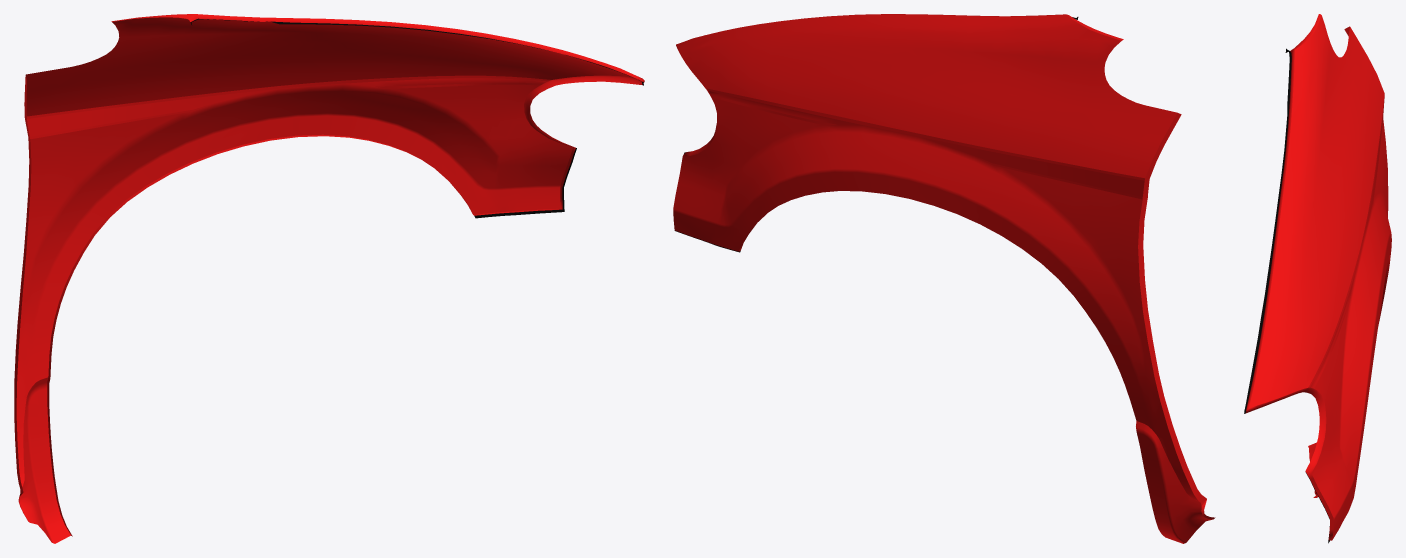
The picture shows the model from 3 angles, left to right: view 1: azimuth 30°, elevation 25°; view 2: azimuth 150°, elevation 25°; view 3: azimuth 270°, elevation 25°; orthographic projection. The views are drawn at different scales.
Parts seen in each view (by area): view 1: N664_9A_121B_L_1_DaS_N664_9A_121B_L, N664_9A_121B_L_1_DaS_N664_9A_121B_L_E, N664_9A_121B_L_N664_9A_121B_L_2_D; view 2: N664_9A_121B_L_1_DaS_N664_9A_121B_L, N664_9A_121B_L_1_DaS_N664_9A_121B_L_E; view 3: N664_9A_121B_L_1_DaS_N664_9A_121B_L, N664_9A_121B_L_1_DaS_N664_9A_121B_L_E, N664_9A_121B_L_N664_9A_121B_L_2_D.
Part boxes in pixels (<box>): N664_9A_121B_L_1_DaS_N664_9A_121B_L: <box>16,17,630,543</box>; N664_9A_121B_L_1_DaS_N664_9A_121B_L_E: <box>14,14,644,536</box>; N664_9A_121B_L_N664_9A_121B_L_2_D: <box>190,18,643,218</box>; N664_9A_121B_L_1_DaS_N664_9A_121B_L: <box>673,14,1212,543</box>; N664_9A_121B_L_1_DaS_N664_9A_121B_L_E: <box>676,14,1215,519</box>; N664_9A_121B_L_1_DaS_N664_9A_121B_L: <box>1248,15,1391,539</box>; N664_9A_121B_L_1_DaS_N664_9A_121B_L_E: <box>1245,14,1390,540</box>; N664_9A_121B_L_N664_9A_121B_L_2_D: <box>1244,48,1329,543</box>.
Bounding box in the file's own units: 106 × 87.26 × 23.03.
